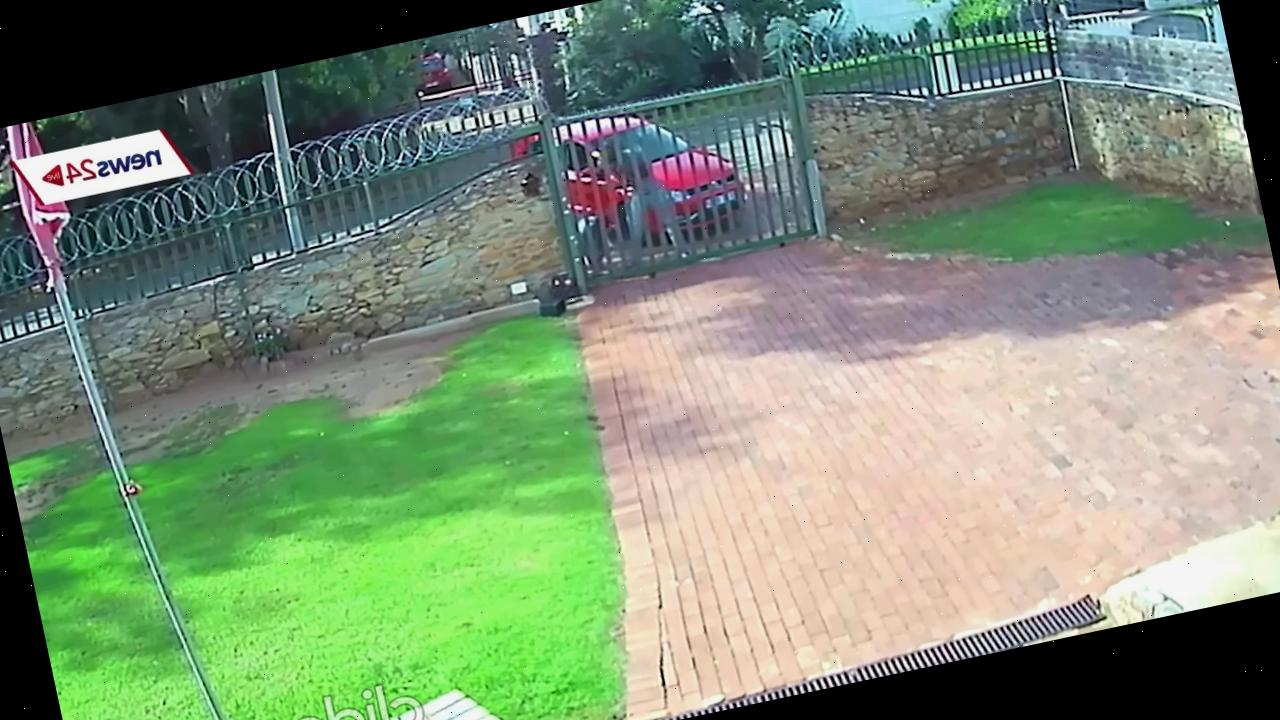suspicion: (586, 128, 686, 289)
